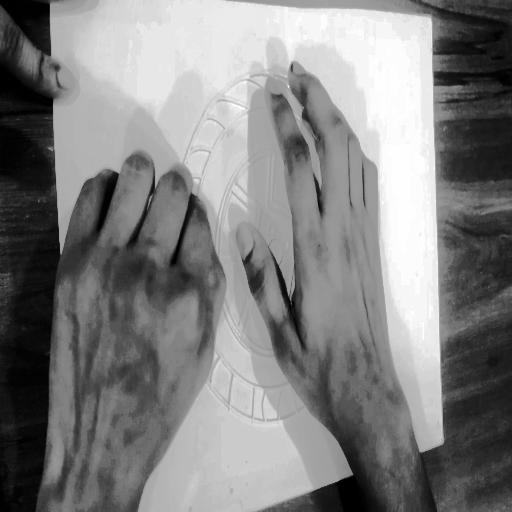bottom_right: (440, 431, 450, 451)
tire: (166, 59, 373, 456)
top_right: (428, 8, 436, 24)
